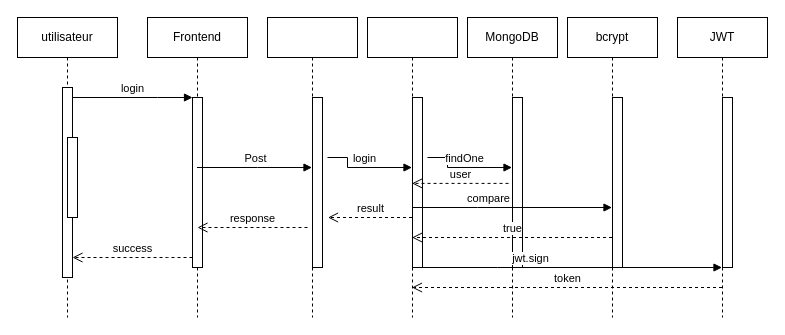
Image size: 785x335. Some labels were removed from this diagram. The centre of each missing label's shape, as x and y in pixels:
Controller: point 312,167
Service: point 412,167
